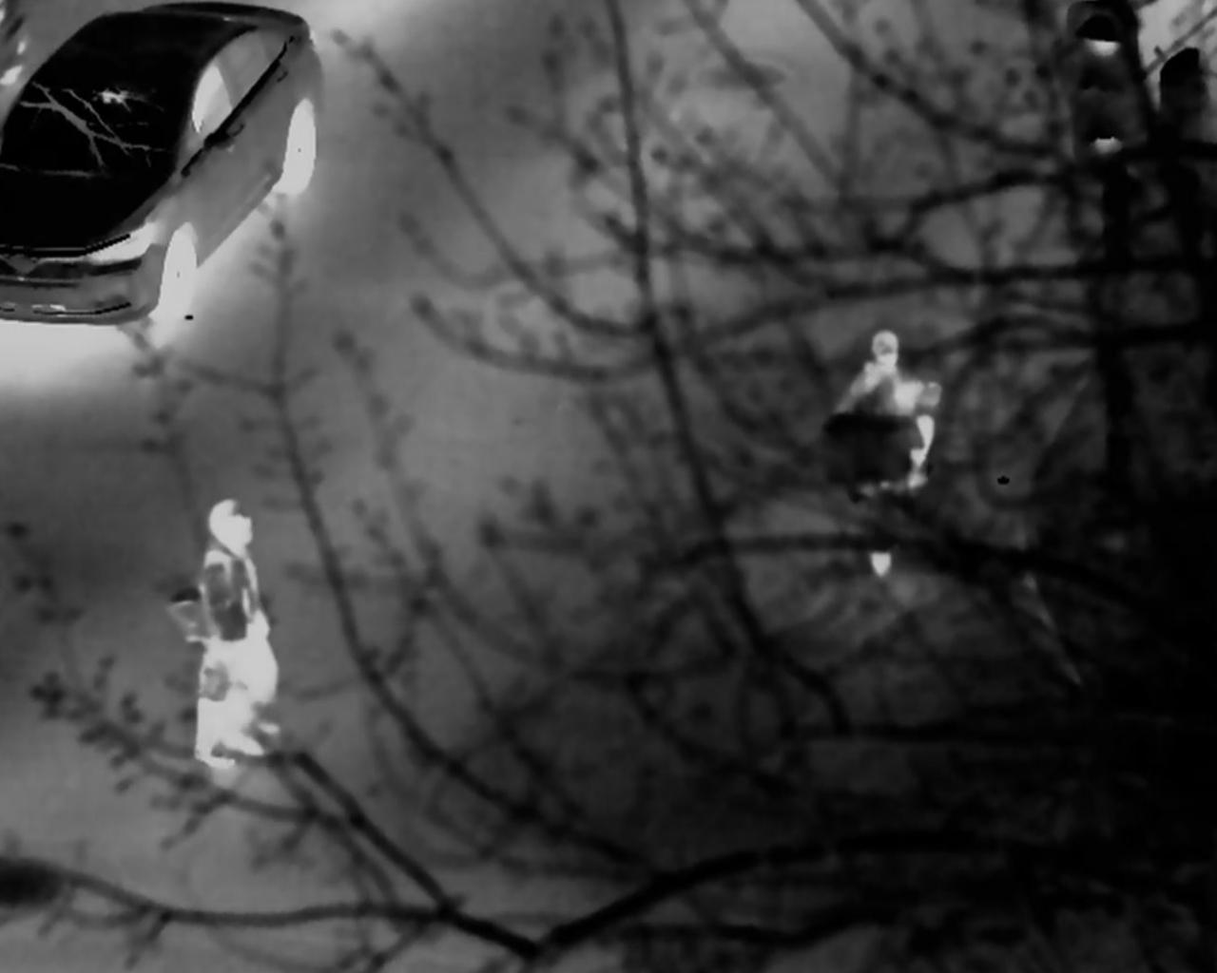person: (178, 503, 281, 791), (835, 329, 950, 523)
